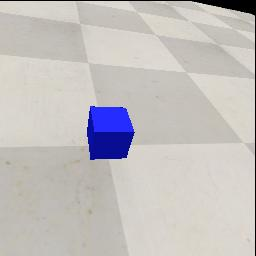box: (87, 106, 135, 160)
